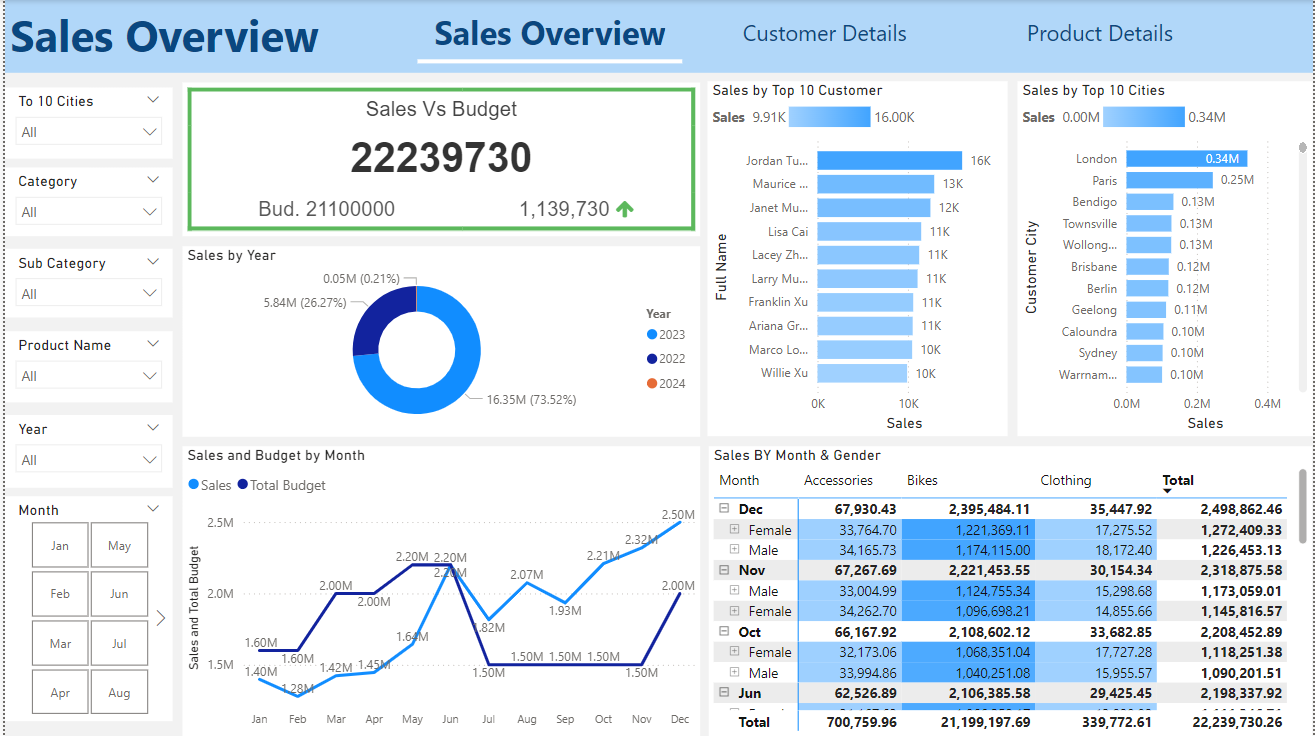

The page's visual inventory and layout, read from the dashboard file:
{"tool":"powerbi","page":{"name":"Sales Overview","canvas":[1280,720],"ordinal":0},"visuals":[{"type":"textbox","box":[0,0,1280.3,70.9],"z":0},{"type":"slicer","fields":{"Values":["DIM_Customer.Customer City"]},"box":[0,85.9,163.9,69.7],"z":1000},{"type":"slicer","fields":{"Values":["DIM_Products.Product Category"]},"box":[0,163.9,163.9,67.3],"z":2000},{"type":"slicer","fields":{"Values":["DIM_Products.Product Name"]},"box":[0,324.1,163.9,69.7],"z":3000},{"type":"slicer","fields":{"Values":["DIM_Calendar.MonthShort"]},"box":[0,485.5,163.9,220.1],"z":4000},{"type":"slicer","fields":{"Values":["DIM_Calendar.Date.Variation.Date Hierarchy.Year"]},"box":[0,406,163.9,70.9],"z":5000},{"type":"BBED0A4D4D8D44CE93CF2DAFADEE466C","fields":{"target1":["FACT_Budget.Budget"],"actual":["Key Measures.Sales"],"target2":["Key Measures.Sales - Budget"]},"box":[173.1,80.8,506.7,150],"z":6000},{"type":"donutChart","fields":{"Y":["Key Measures.Sales"],"Category":["DIM_Calendar.Year"]},"box":[173.1,240.4,506.7,186.5],"z":7000},{"type":"lineChart","title":"Sales and Budget by Month","fields":{"Y":["Key Measures.Sales","Key Measures.Total Budget"],"Category":["DIM_Calendar.MonthShort"]},"box":[173.1,436.5,506.7,283.7],"z":8000},{"type":"barChart","title":"Sales by Top 10 Customer","fields":{"Y":["Key Measures.Sales"],"Category":["DIM_Customer.Full Name"]},"box":[687.5,79.8,293.3,347.1],"z":9000},{"type":"barChart","title":"Sales by Top 10 Cities","fields":{"Y":["Key Measures.Sales"],"Category":["DIM_Customer.Customer City"]},"box":[990.4,79.8,288.5,347.1],"z":10000},{"type":"slicer","fields":{"Values":["DIM_Products.Sub Category"]},"box":[0,243.3,163.9,67.3],"z":11000},{"type":"pageNavigator","box":[403.4,0,799.4,62.3],"z":12000},{"type":"pivotTable","title":"Sales BY Month & Gender","fields":{"Values":["Key Measures.Sales"],"Rows":["DIM_Calendar.MonthShort","DIM_Customer.Gender","DIM_Customer.Customer City"],"Columns":["DIM_Products.Product Category"]},"box":[688.5,436.6,590.6,283.7],"z":13000}]}

Visuals, with their boxes in screenshot pixels (x1, y1, x2, y2), scaled from the page's 1280x720 canvas onto the 1315x736 screenshot:
textbox: pyautogui.locateOnScreen(0, 0, 1314, 72)
slicer - DIM_Customer.Customer City: pyautogui.locateOnScreen(0, 88, 168, 159)
slicer - DIM_Products.Product Category: pyautogui.locateOnScreen(0, 168, 168, 236)
slicer - DIM_Products.Product Name: pyautogui.locateOnScreen(0, 331, 168, 403)
slicer - DIM_Calendar.MonthShort: pyautogui.locateOnScreen(0, 496, 168, 721)
slicer - DIM_Calendar.Date.Variation.Date Hierarchy.Year: pyautogui.locateOnScreen(0, 415, 168, 487)
BBED0A4D4D8D44CE93CF2DAFADEE466C - FACT_Budget.Budget x Key Measures.Sales: pyautogui.locateOnScreen(178, 83, 698, 236)
donutChart - Key Measures.Sales x DIM_Calendar.Year: pyautogui.locateOnScreen(178, 246, 698, 436)
"Sales and Budget by Month" lineChart: pyautogui.locateOnScreen(178, 446, 698, 735)
"Sales by Top 10 Customer" barChart: pyautogui.locateOnScreen(706, 82, 1008, 436)
"Sales by Top 10 Cities" barChart: pyautogui.locateOnScreen(1017, 82, 1314, 436)
slicer - DIM_Products.Sub Category: pyautogui.locateOnScreen(0, 249, 168, 318)
pageNavigator: pyautogui.locateOnScreen(414, 0, 1236, 64)
"Sales BY Month & Gender" pivotTable: pyautogui.locateOnScreen(707, 446, 1314, 735)
